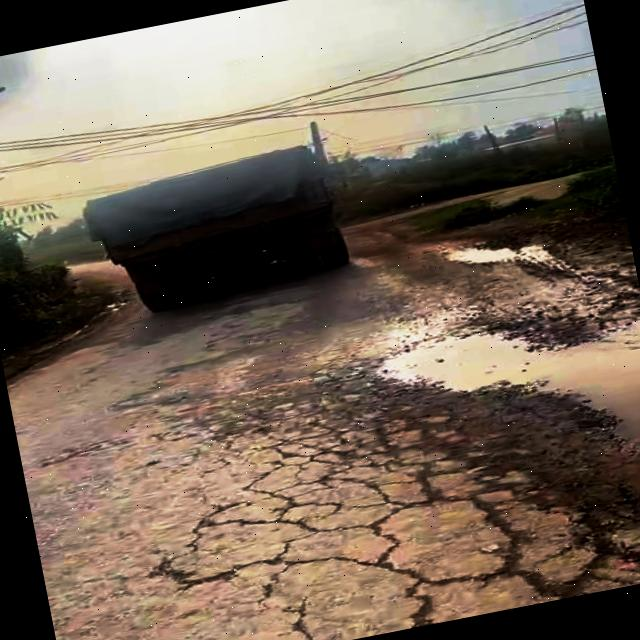pothole: (363, 289, 640, 494)
